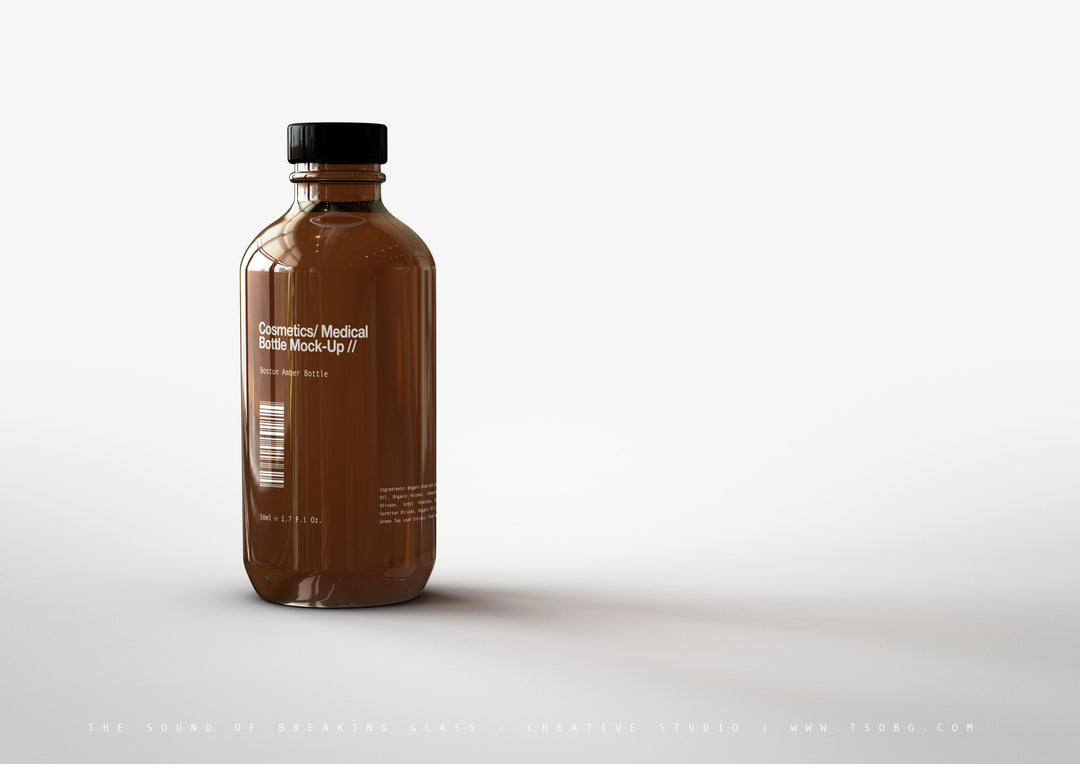Medicine: (216, 78, 482, 626)
